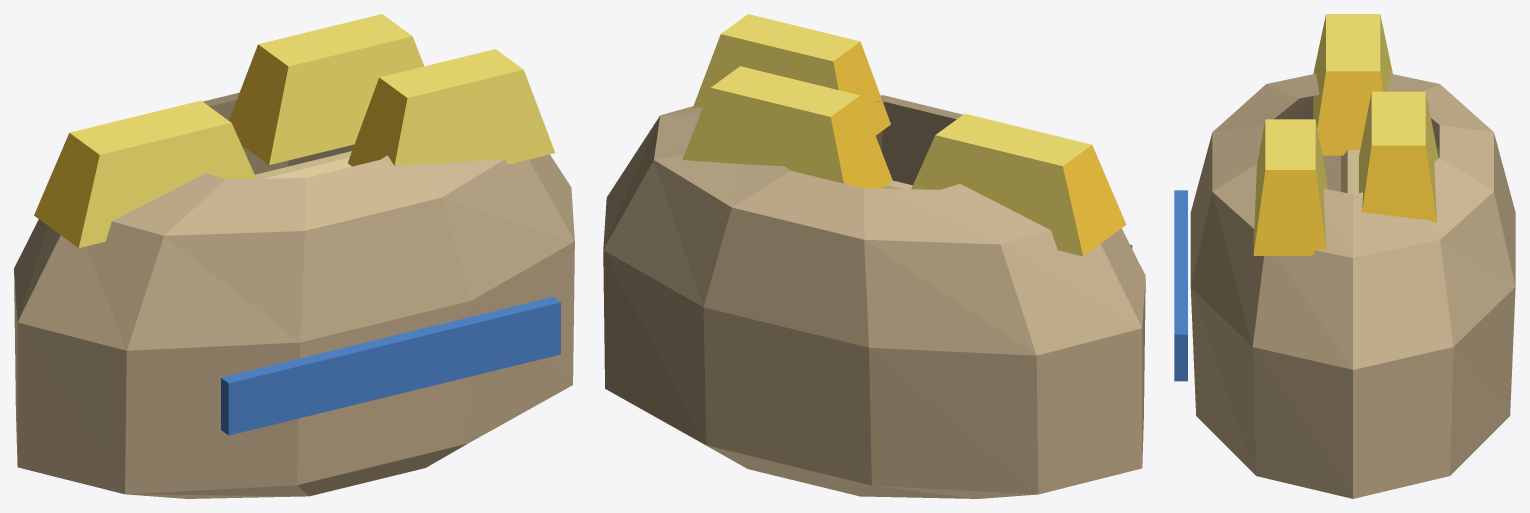
Rendered from oro.glb.
3 renders of one model, left to right at view 1: azimuth 30°, elevation 25°; view 2: azimuth 150°, elevation 25°; view 3: azimuth 270°, elevation 25°, orthographic. The views are drawn at different scales.
Parts seen in each view (by area): view 1: oro; view 2: oro; view 3: oro.
Part boxes in pixels (x1,y1,x2,y2): oro: [14, 14, 574, 498]; oro: [603, 14, 1145, 498]; oro: [1174, 14, 1515, 498].
Size of the model in its own units: 0.5 by 0.305 by 0.2997.
